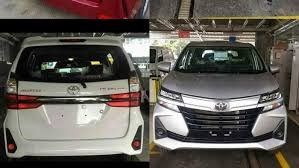mobil: (2, 36, 145, 161), (154, 39, 291, 156)
